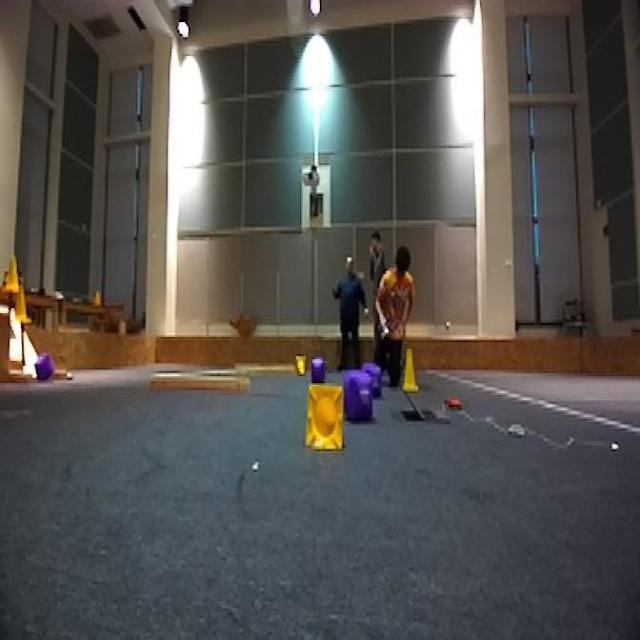frc_cone: (304, 381, 351, 460), (399, 347, 421, 392), (3, 255, 19, 300), (12, 284, 28, 329), (294, 351, 310, 376)
frc_cube: (349, 371, 375, 419), (363, 364, 384, 395), (32, 354, 52, 385), (308, 356, 326, 378)
